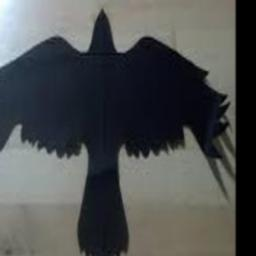Crow: (0, 7, 229, 256)
